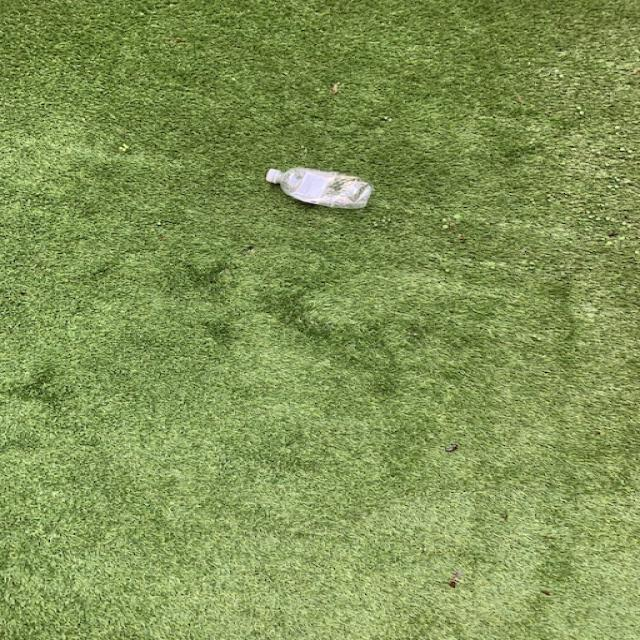Plastic: (266, 167, 374, 208)
